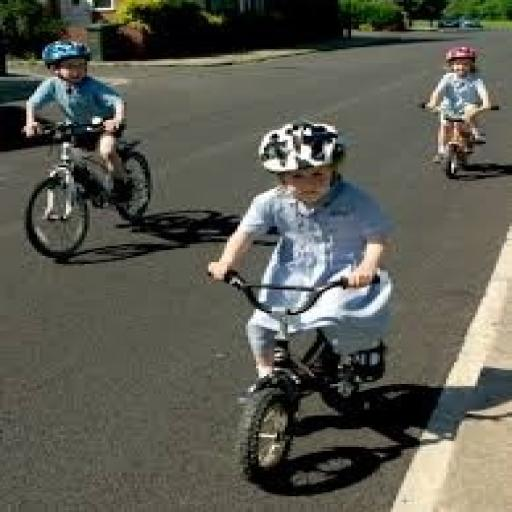cycling: (203, 118, 401, 412), (18, 37, 138, 209), (420, 44, 498, 172)
